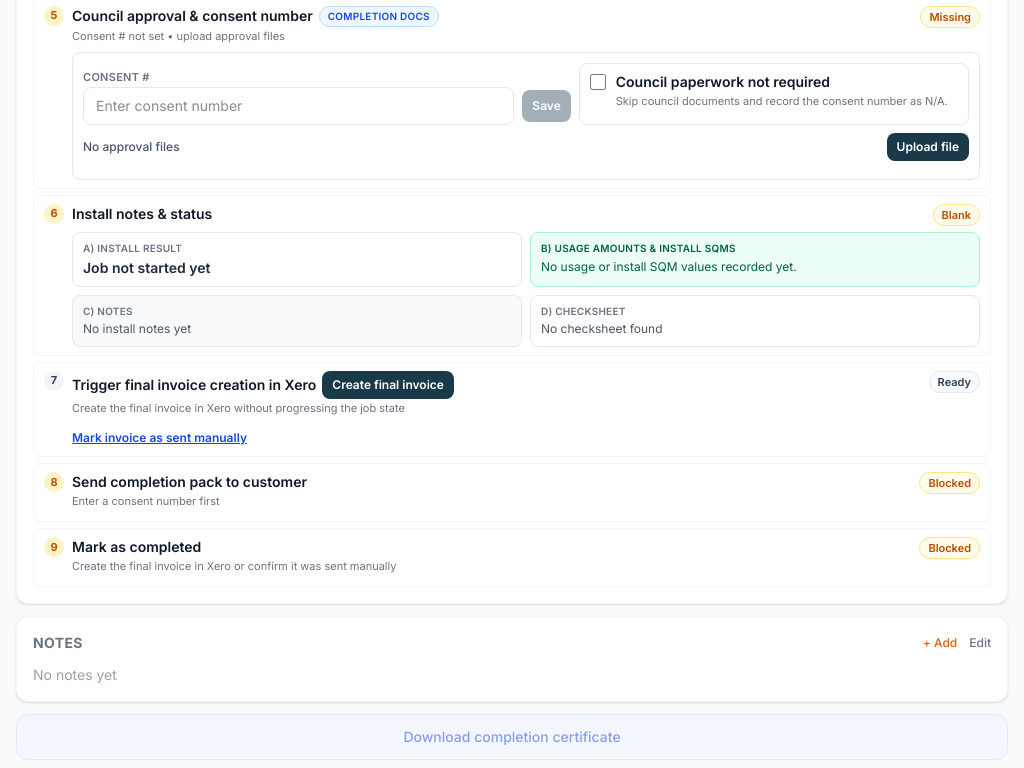
Scenario: shows invoice failures inside the open confirmation sheet
This screenshot has width=1024, height=768.
(page scrolled)
Step 1. Click the button "Create final invoice" → (388, 385), box [322,371,454,399]
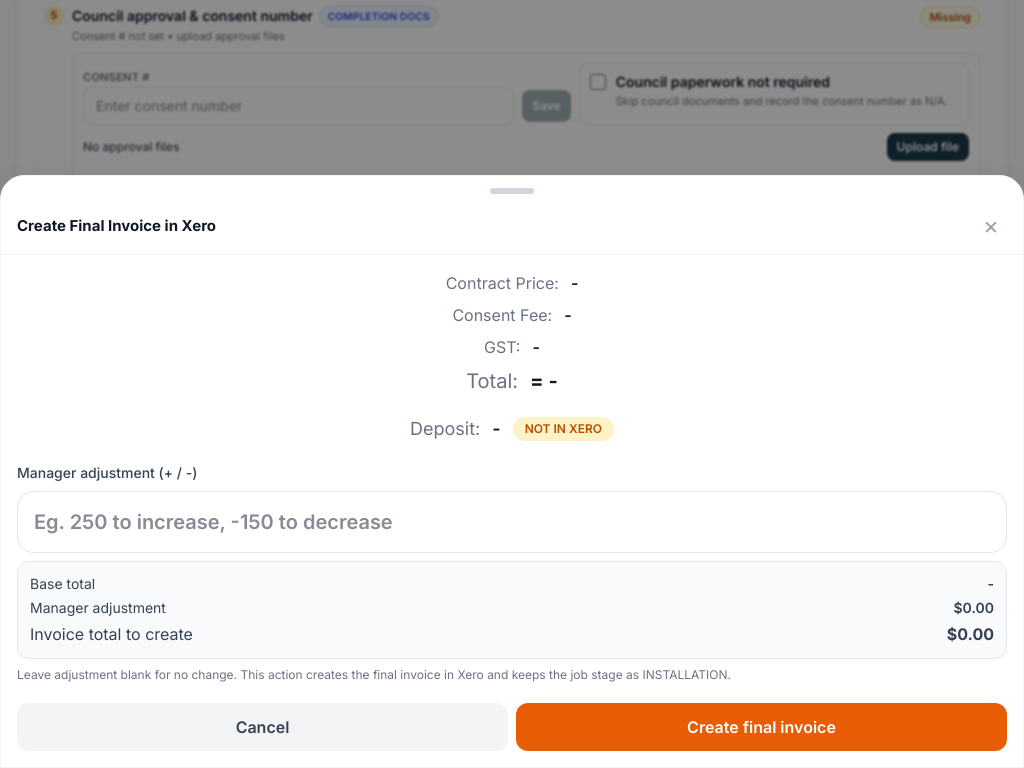
Step 2. Click the button "Create final invoice" → (762, 727), box [516,703,1007,751]
(page scrolled)
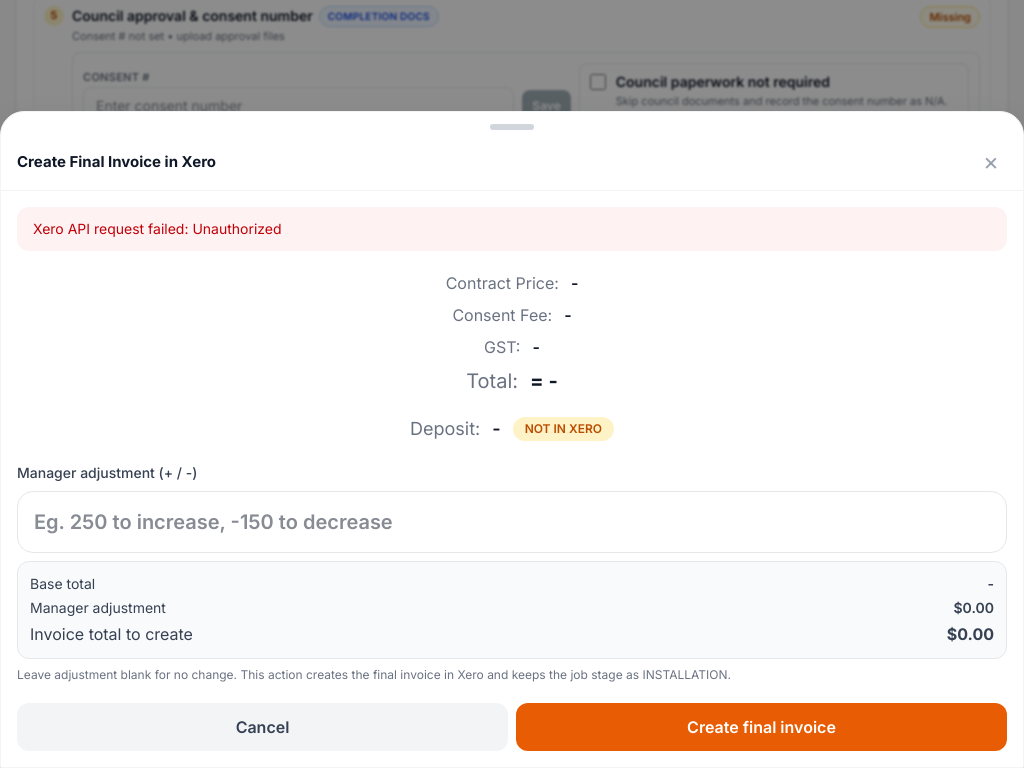
expect the heading "Create Final Invoice in Xero" is shown: met, box [17,151,216,173]
expect the message reads "Xero API request failed: Unauthorized": met, box [33,220,282,237]
